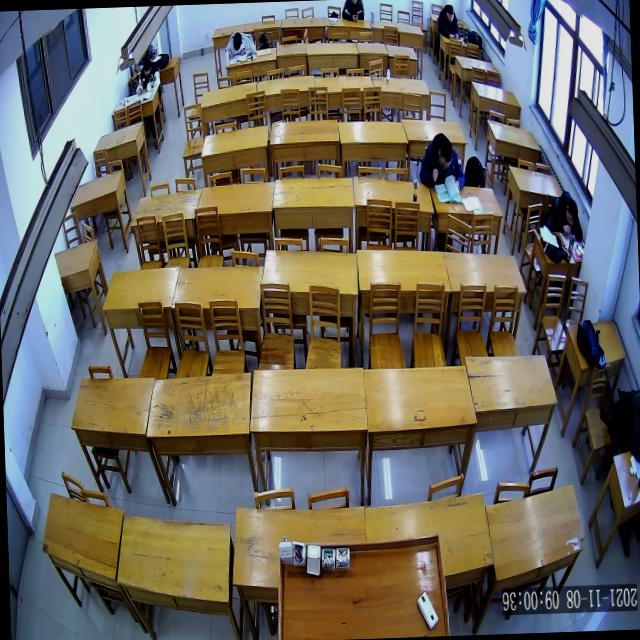bow: (417, 130, 464, 189), (547, 190, 582, 242), (224, 31, 256, 58)
down: (437, 138, 452, 168), (565, 197, 578, 225), (231, 30, 242, 50), (142, 56, 152, 76), (445, 4, 454, 23)
sit: (134, 55, 160, 94), (436, 3, 461, 40)
